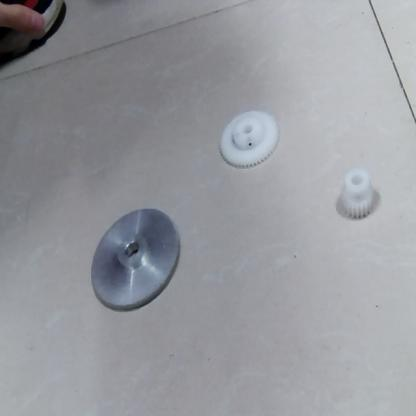FOD: (89, 201, 185, 316), (212, 108, 283, 170), (332, 164, 376, 225)
